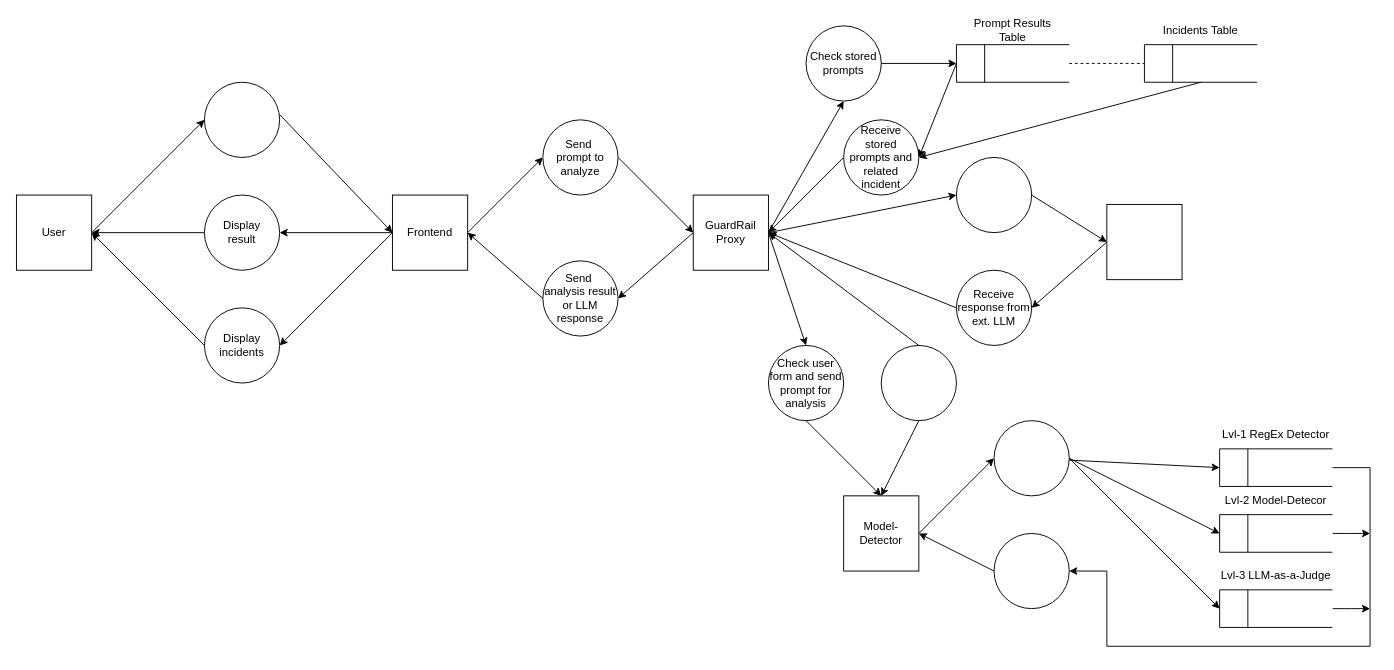
The diagram is 1394 pixels wide and 670 high, and some of its shapes have lost their labels. The shapes that lost their labels are listed below. From the top down, each one's centre as x and y in pixels, then its label:
At (242,119): "Enter prompt".
At (994,195): "Send prompt to LLM".
At (1144,242): "External LLM (Gemini)".
At (918,383): "Receive verdict from detector".
At (1031,458): "Send prompt for analysis".
At (1031,571): "Provide verdict (type, severity, segment)".
